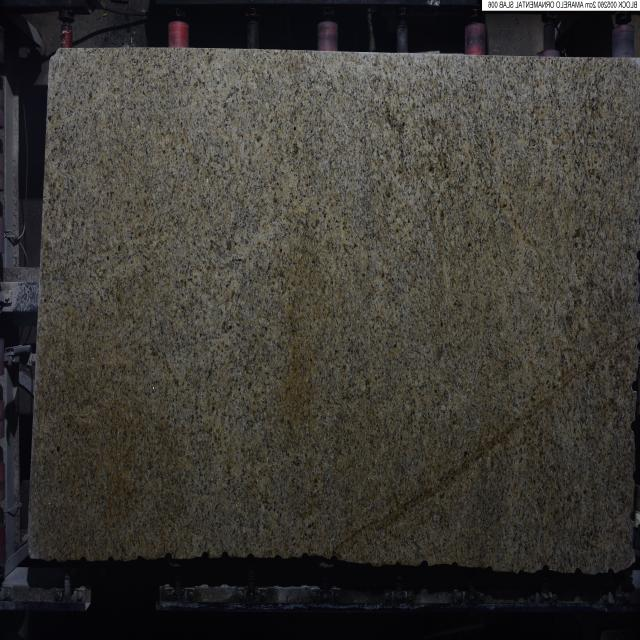chapa: (29, 49, 640, 574)
